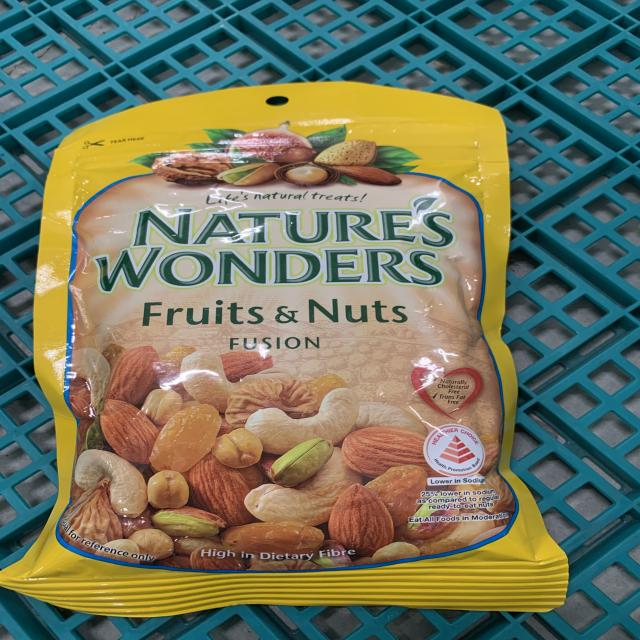object_name: (41, 97, 521, 612)
